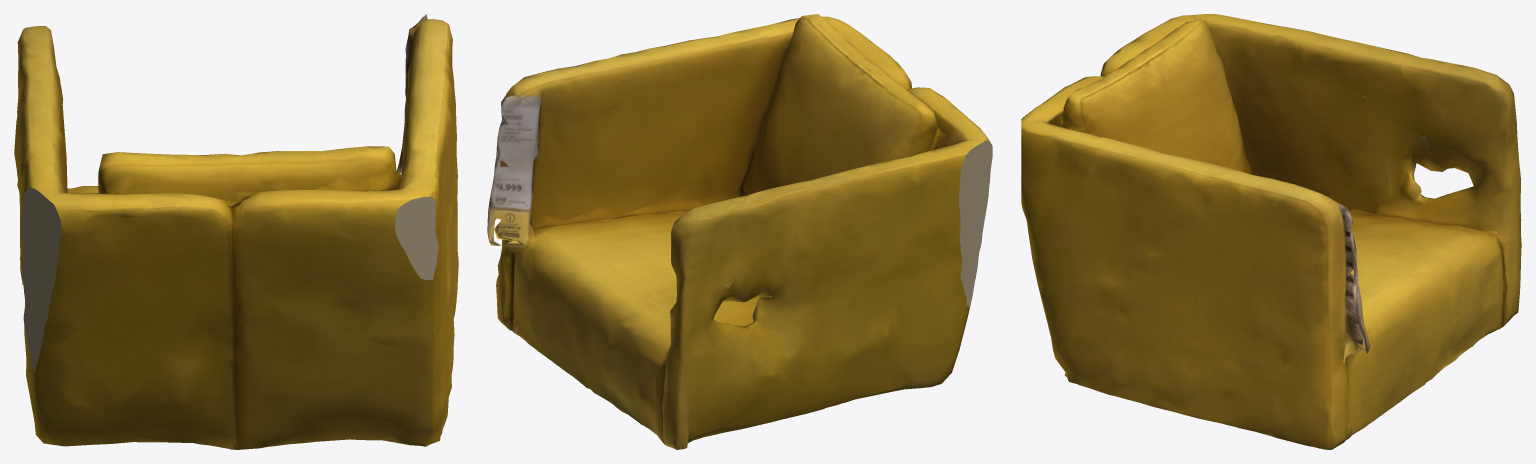
The model's file is 3DModel_LowPoly.obj.
The picture shows the model from 3 angles, left to right: view 1: azimuth 30°, elevation 25°; view 2: azimuth 150°, elevation 25°; view 3: azimuth 270°, elevation 25°; orthographic projection. The views are drawn at different scales.
Visible parts, largest first — view 1: grp1; view 2: grp1; view 3: grp1.
Boxes of the visible parts, box(x1,y1,x2,y2) form: grp1: box(14, 14, 458, 449); grp1: box(487, 14, 992, 449); grp1: box(1021, 14, 1521, 449).
Bounding box in the file's own units: 4.77 × 2.84 × 4.91.
1 material, 1 textured.
